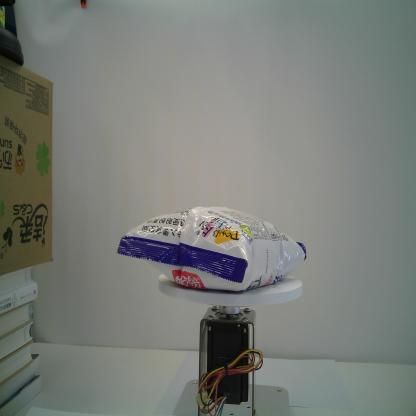Puffed Food: (116, 203, 307, 292)
